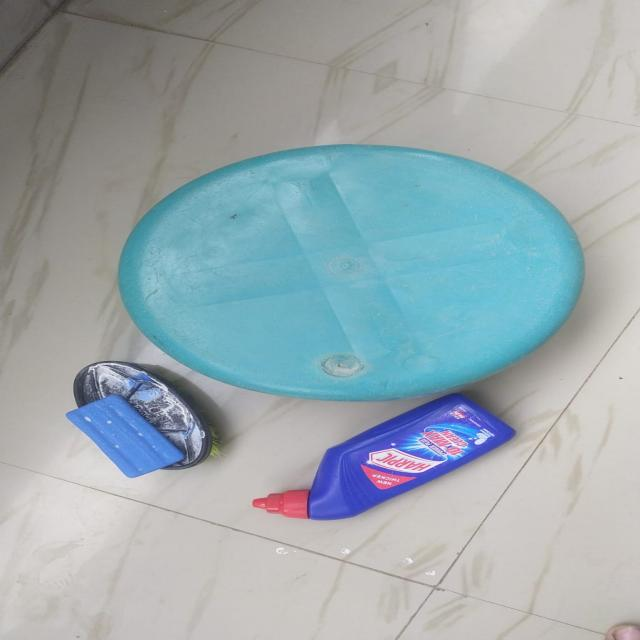dry: (126, 141, 601, 386), (268, 406, 551, 527), (48, 354, 217, 483)
